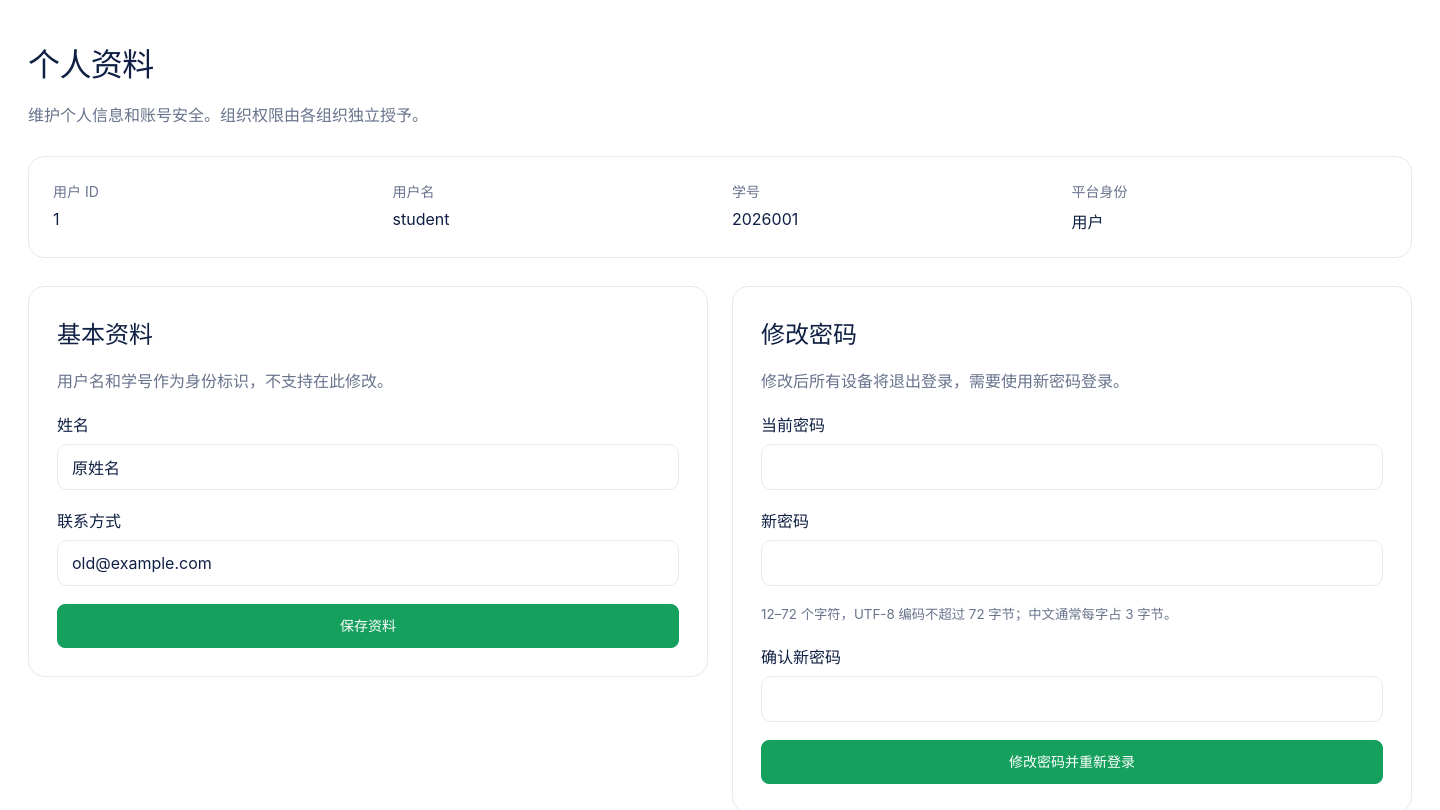
Scenario: saves only editable profile fields and updates the shared account state
Replace the text in the field named "realName" with " 新姓名 ": (368, 467) [57,444,679,490]
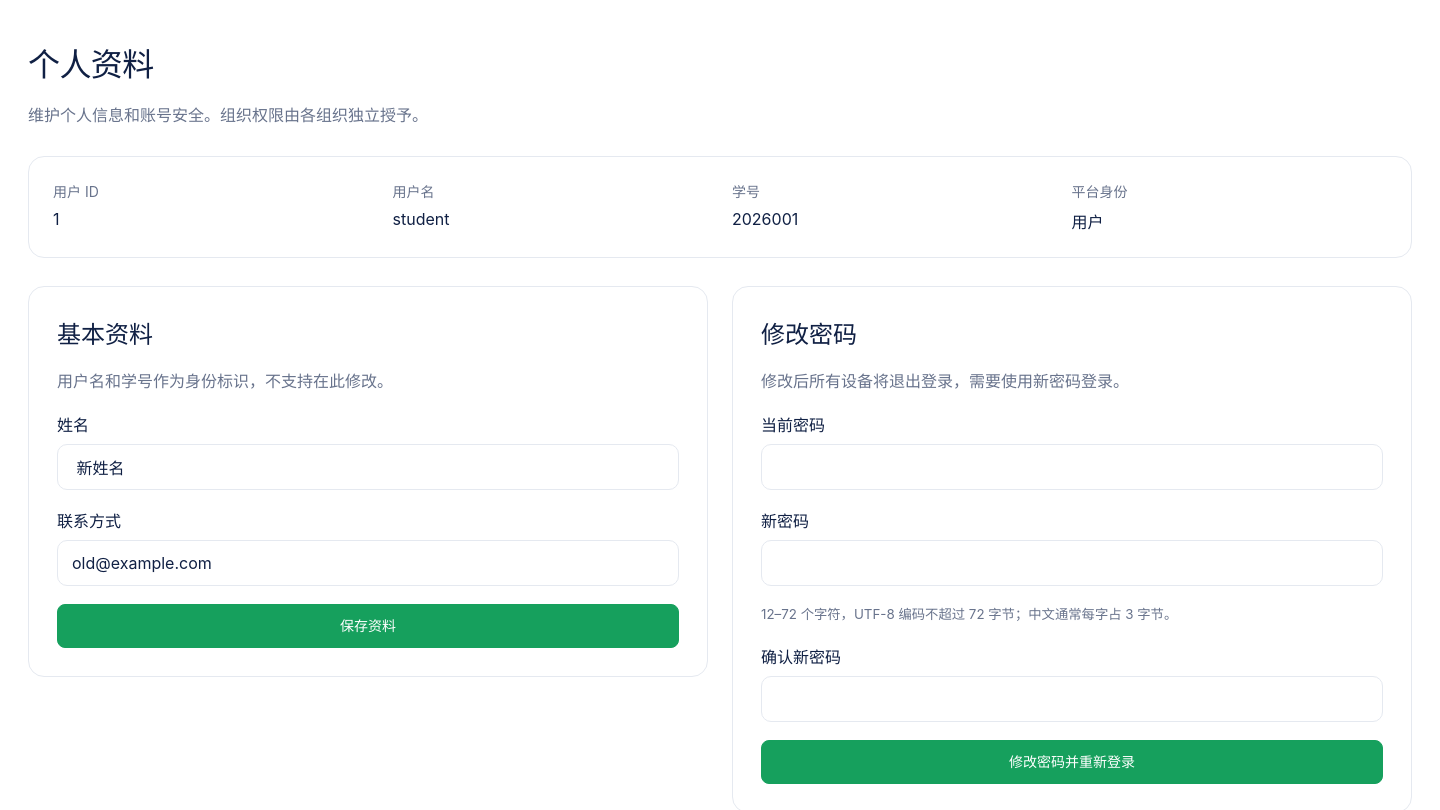
Replace the text in the field named "contact" with "new@example.com": (368, 563) [57,540,679,586]
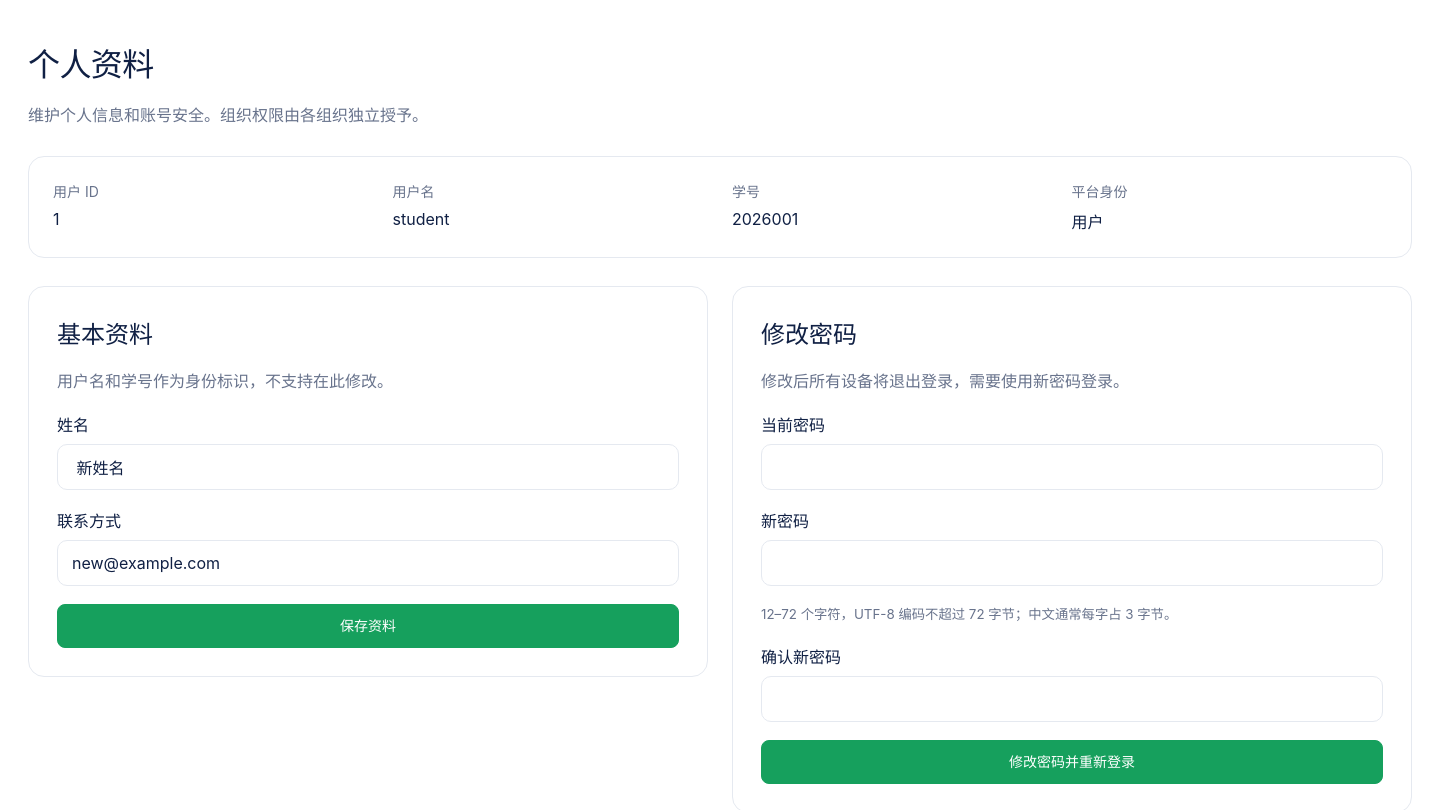
Submit the form with test id "profile-form", box [28,286,708,677]
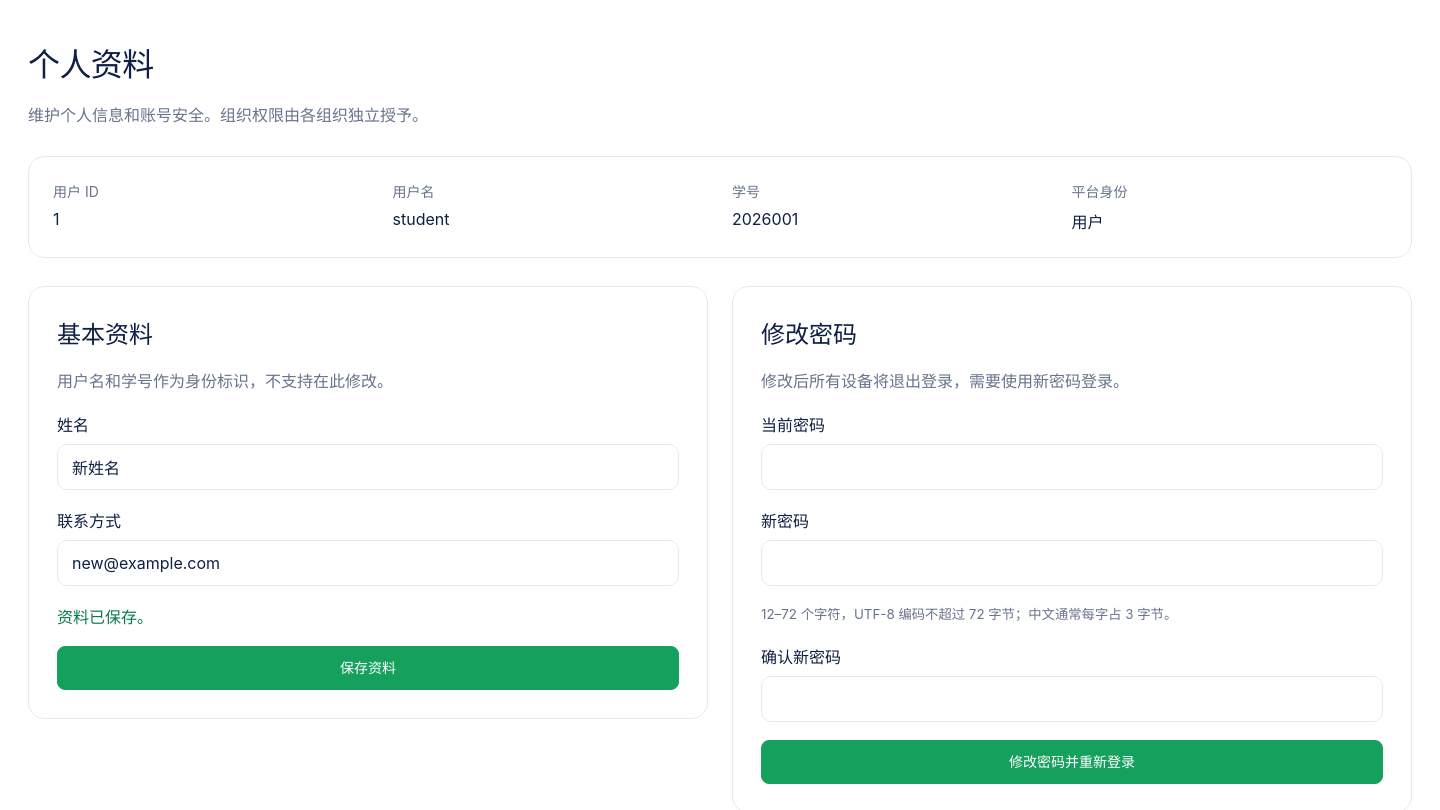
Now the text "资料已保存" is shown, box [57,607,153,627]
